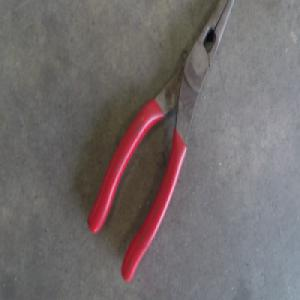Pliers: (88, 0, 243, 286)
